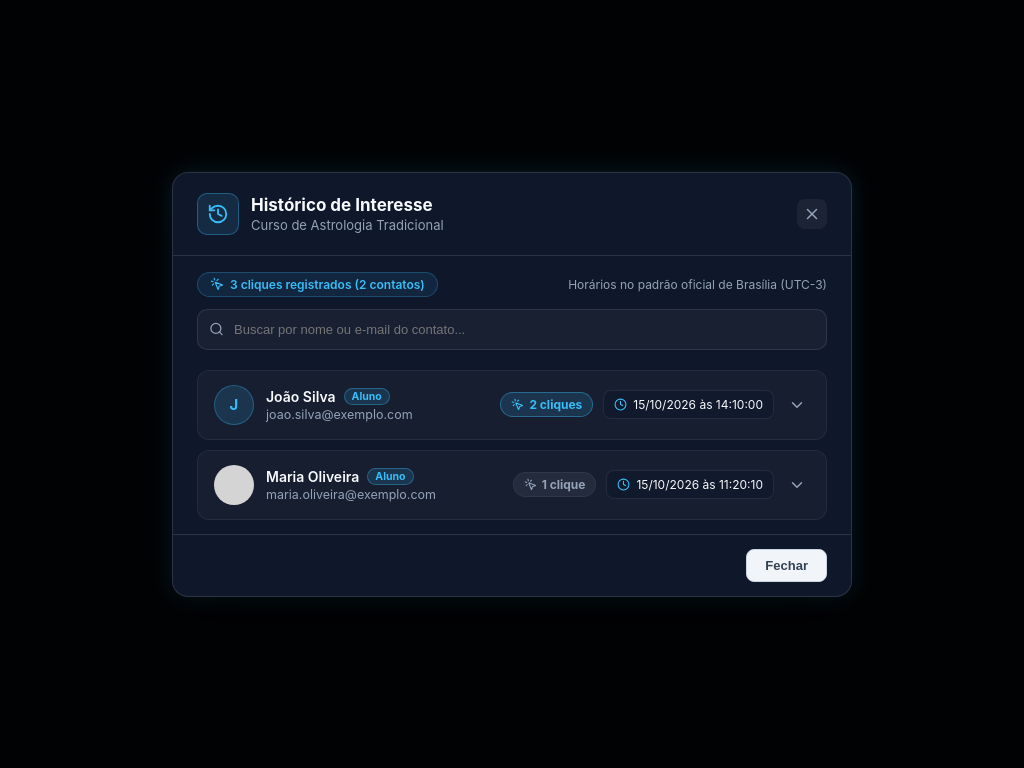
Test: CourseSalesHistoryModal Component › expands accordion on click to show detailed clicks breakdown for that specific contact
The width and height of the screenshot is (1024, 768).
// Clica no card de João para expandir
Click the element with test id "sales-lead-row-101". click: {"x": 510, "y": 404}
box: [214,384,806,424]
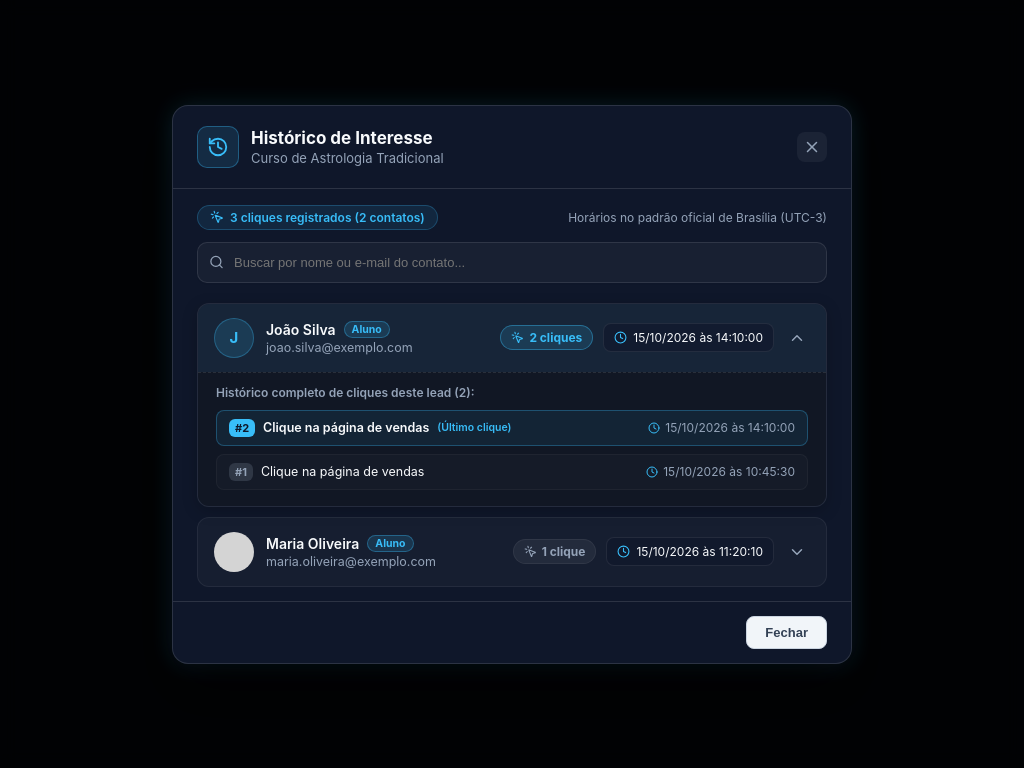
expect the element with test id "sales-lead-expanded-list-101" is shown: met, box [198,372,826,506]
expect the element with test id "lead-click-detail-3" is shown: met, box [216,410,808,446]
expect the element with test id "lead-click-detail-1" is shown: met, box [216,454,808,490]
// Clica novamente para recolher o acordeão
Click the element with test id "sales-lead-row-101". click: {"x": 512, "y": 338}
box: [198,304,826,372]
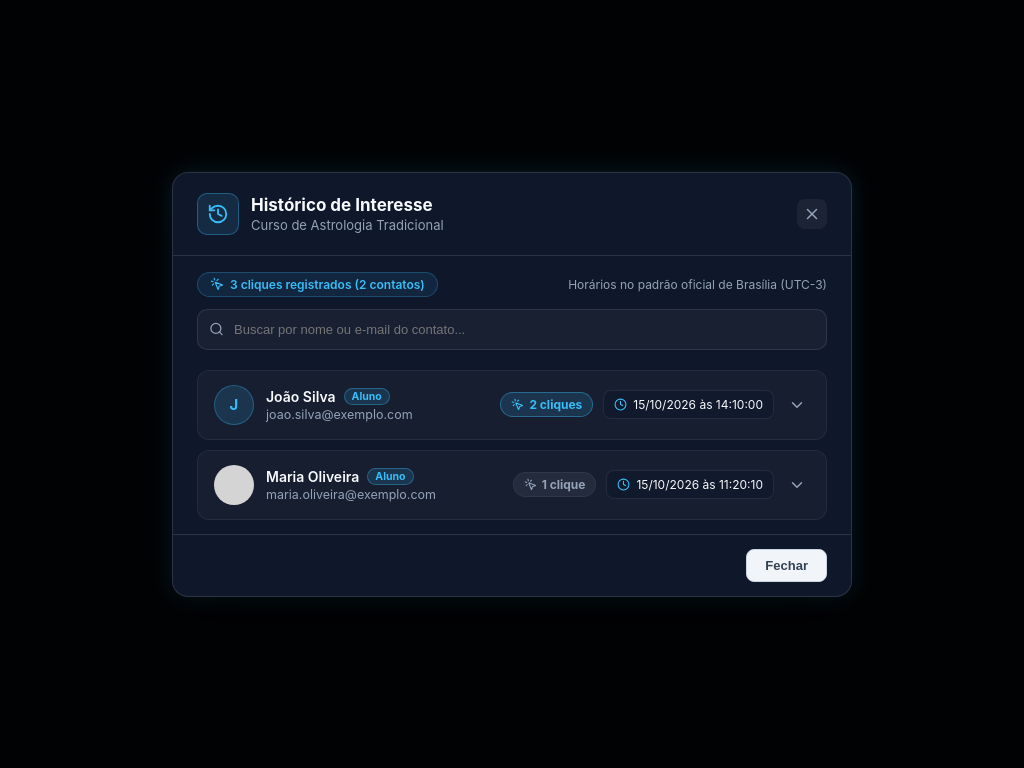
expect the element with test id "sales-lead-expanded-list-101" is gone: met
